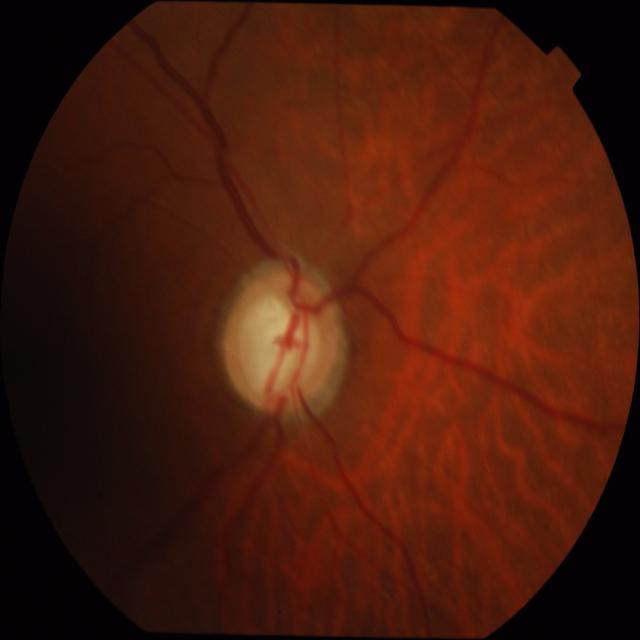OC: (236, 292, 320, 396)
OD: (221, 271, 339, 412)
